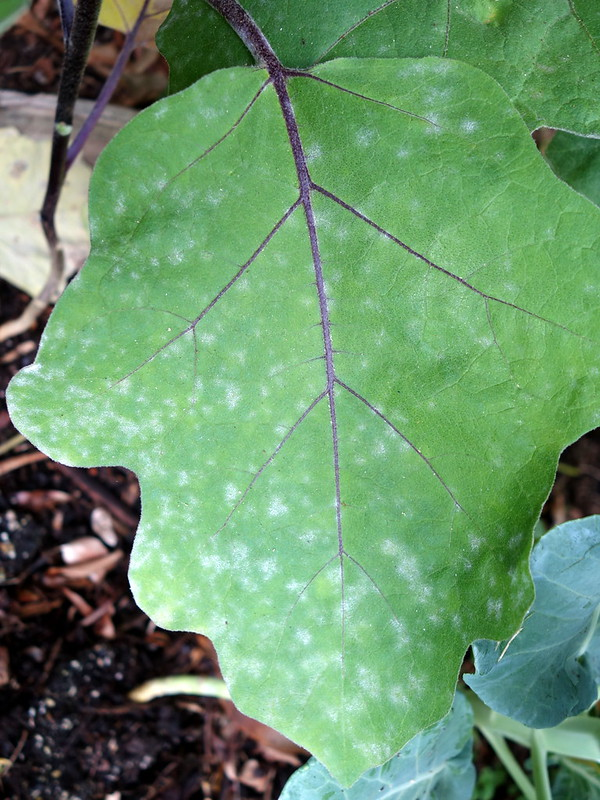Eggplant_PowderyMildew: (79, 116, 585, 706)
